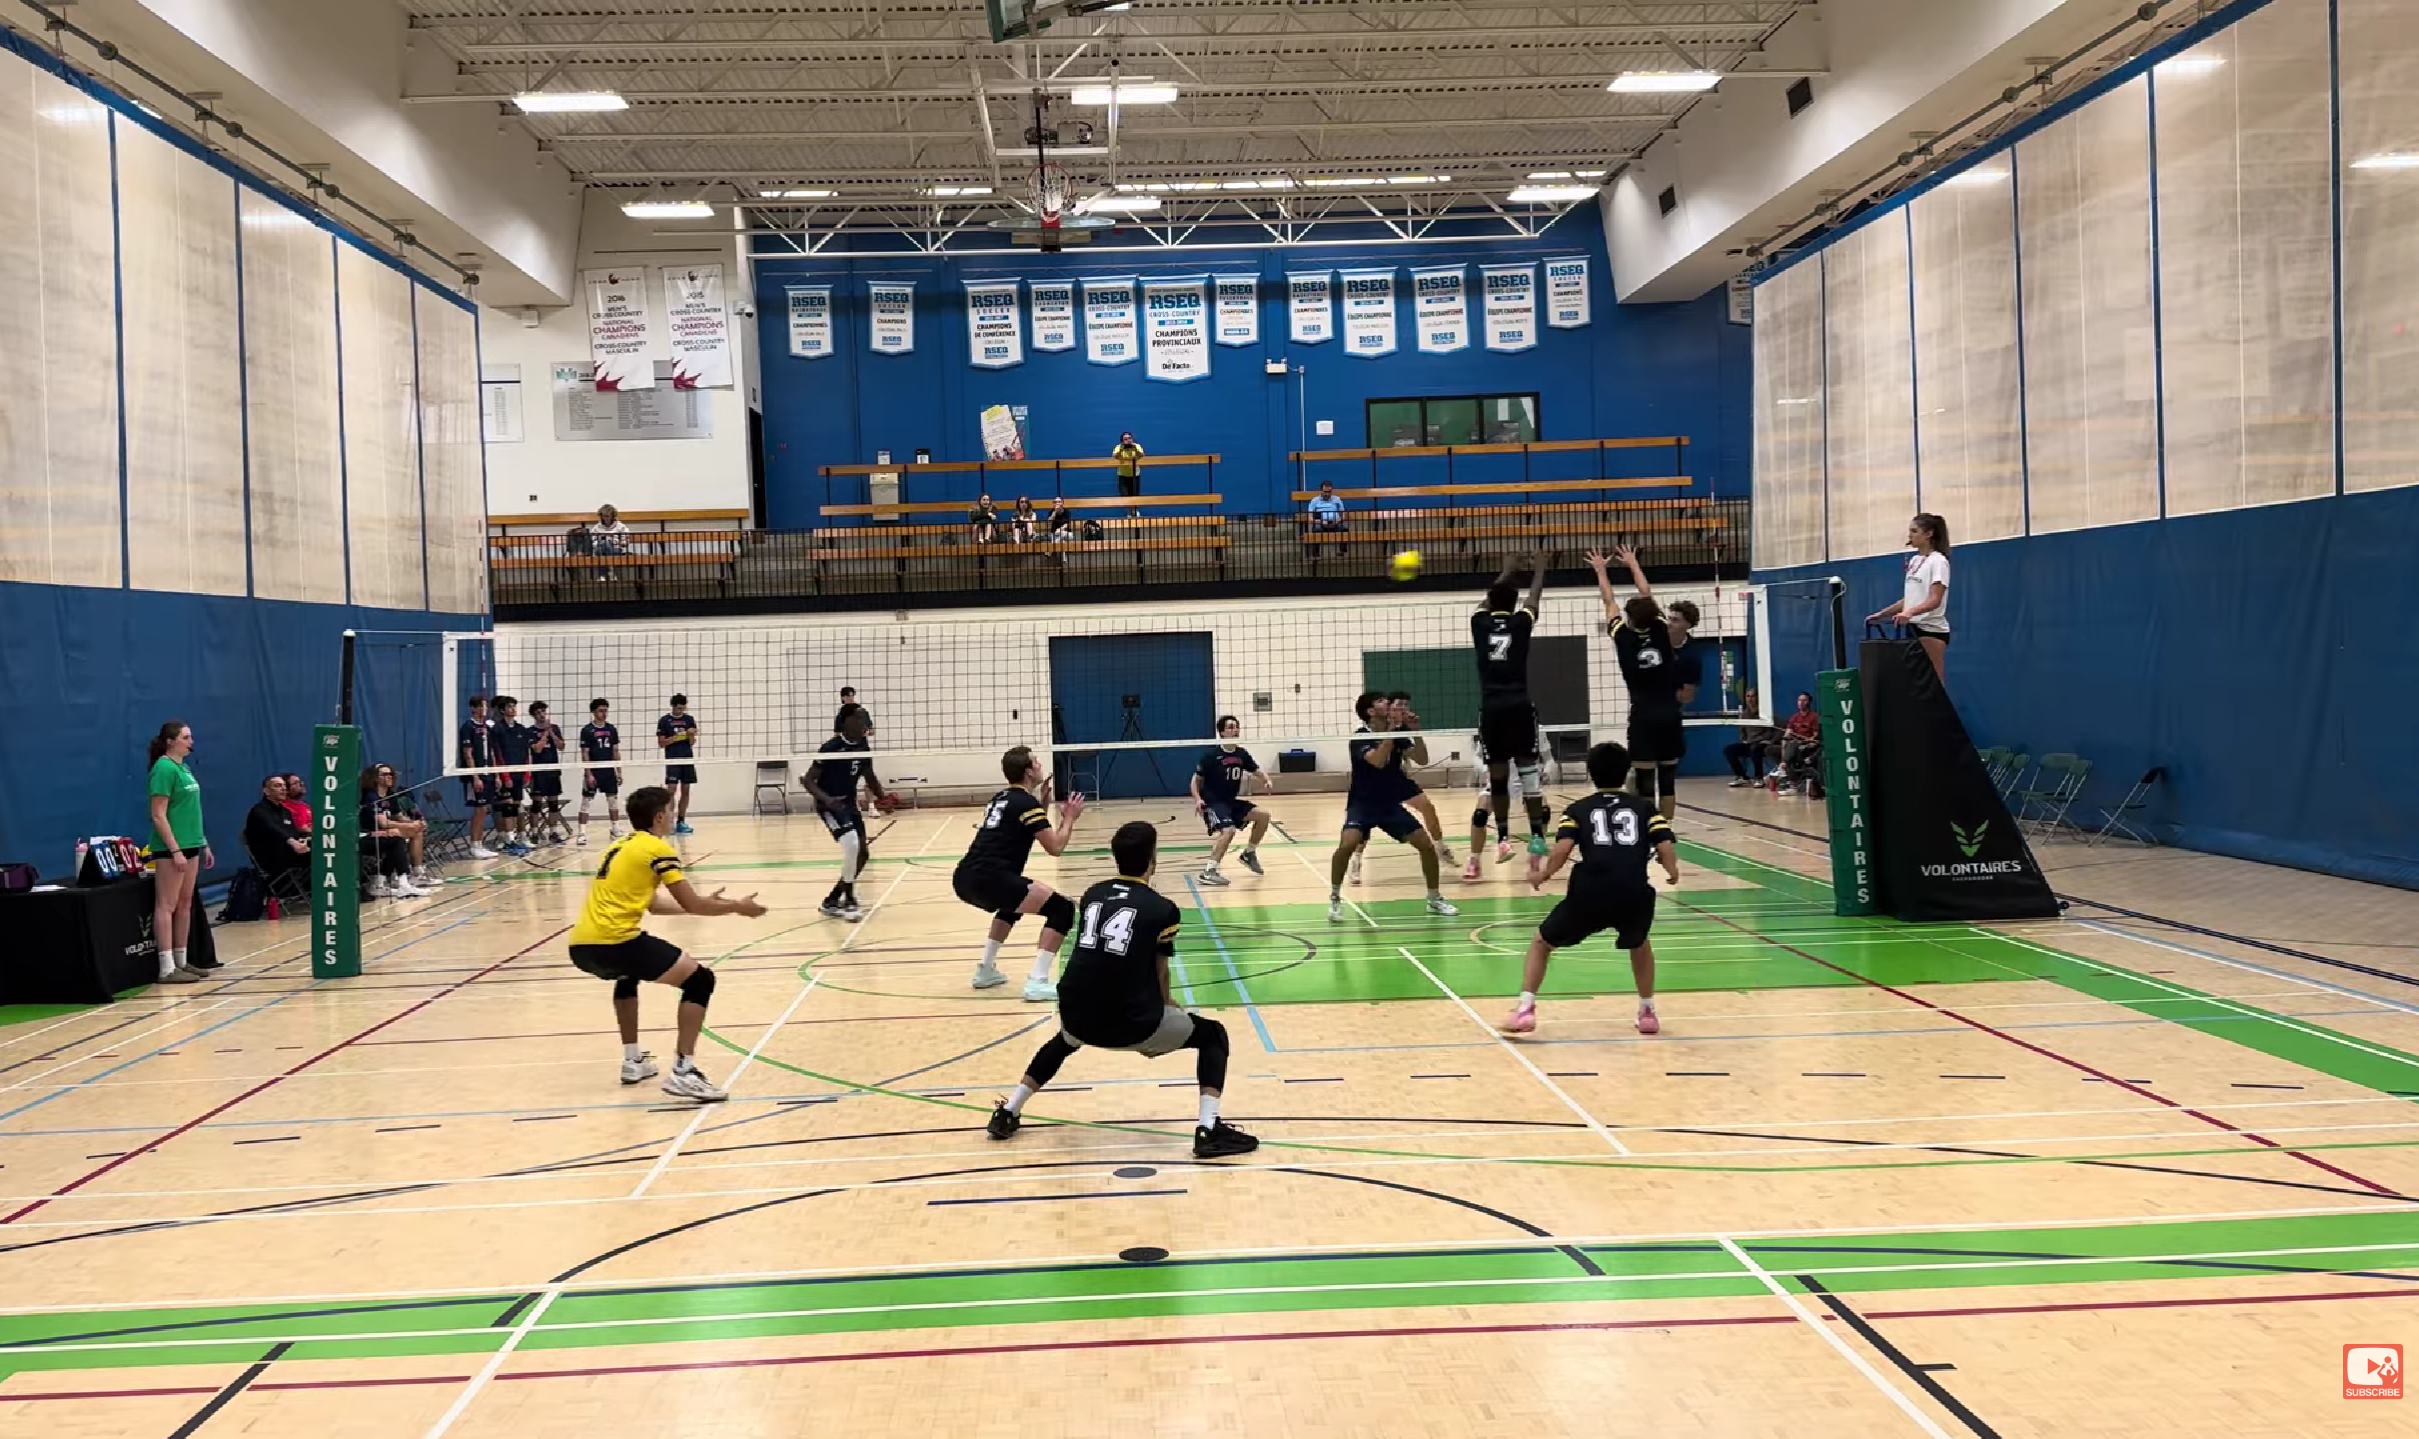Ball: (1386, 548, 1424, 582)
